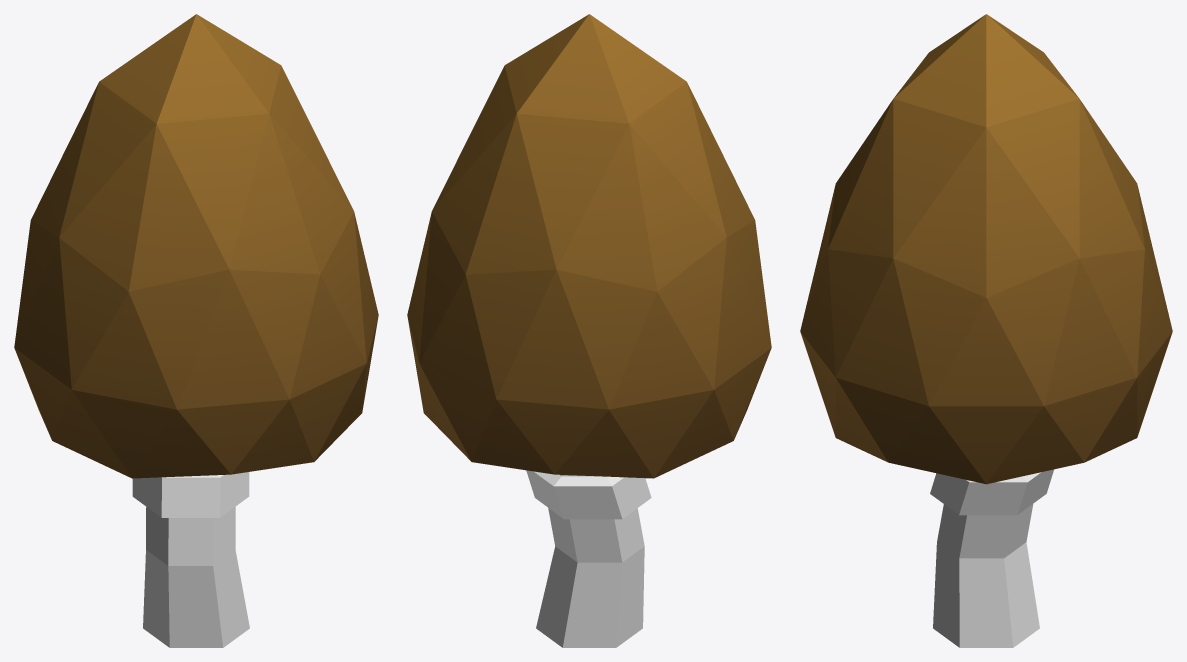
File: Mushroom_01.fbx
3 renders of one model, left to right at view 1: azimuth 30°, elevation 25°; view 2: azimuth 150°, elevation 25°; view 3: azimuth 270°, elevation 25°, orthographic.
Visible parts, largest first — view 1: Mushroom_01; view 2: Mushroom_01; view 3: Mushroom_01.
Part boxes in pixels (x1,y1,x2,y2): Mushroom_01: [14, 14, 378, 647]; Mushroom_01: [407, 14, 771, 647]; Mushroom_01: [800, 14, 1172, 647].
Bounding box in the file's own units: 0.2958 × 0.5658 × 0.311.
